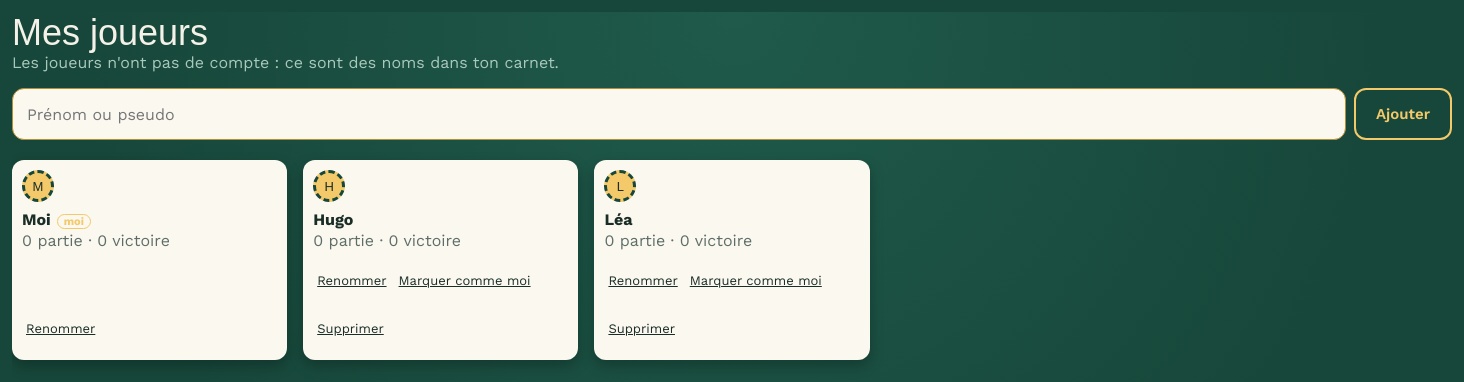
Test: Joueurs › affiche un message d'erreur si le renommage échoue
Click the button "Renommer" below "Hugo" at x=352, y=280, box [313,258,391,302]
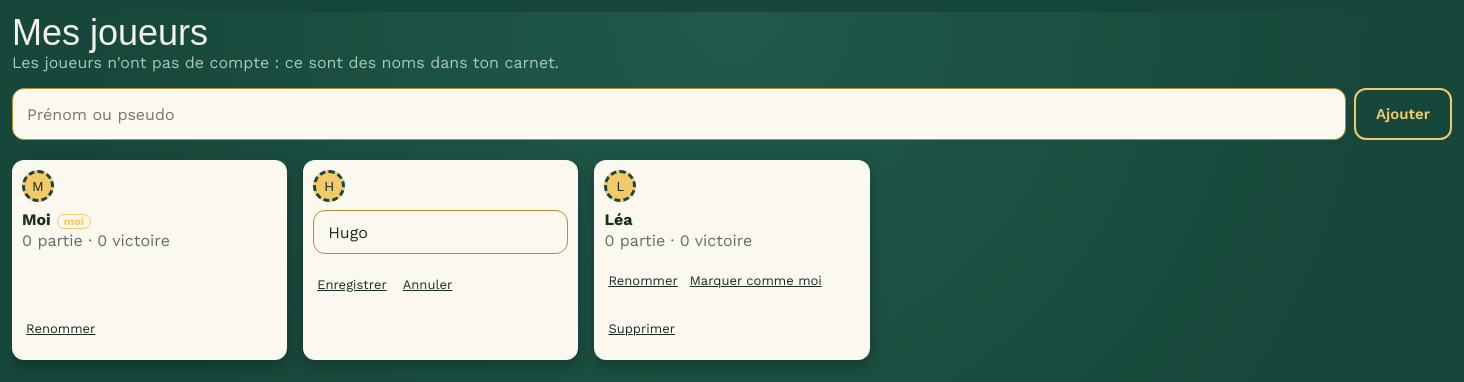
Replace the text in the field named "Nouveau nom du joueur" with "Léa" at x=441, y=232, box [313,210,568,254]
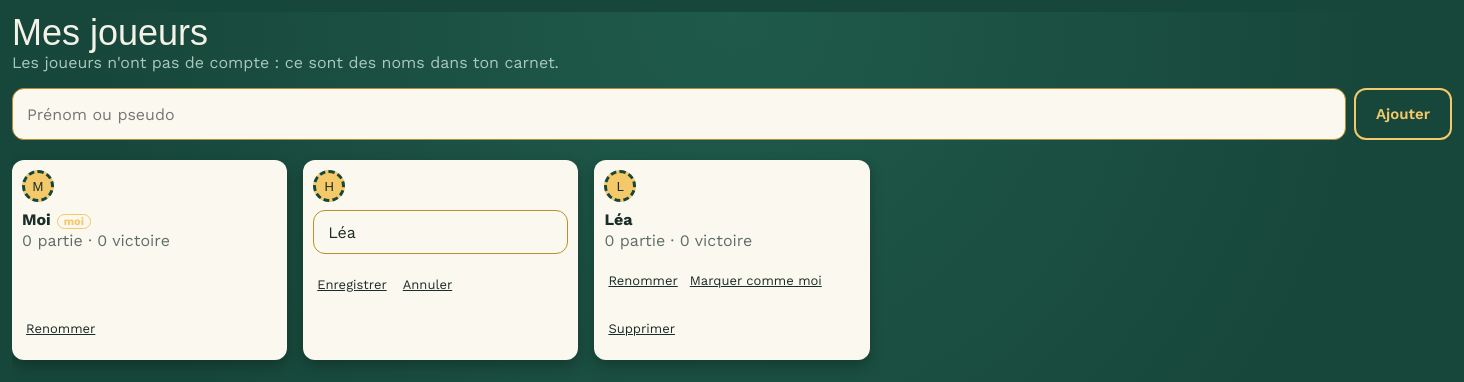
Submit the form with class "rename", box [313,210,568,306]
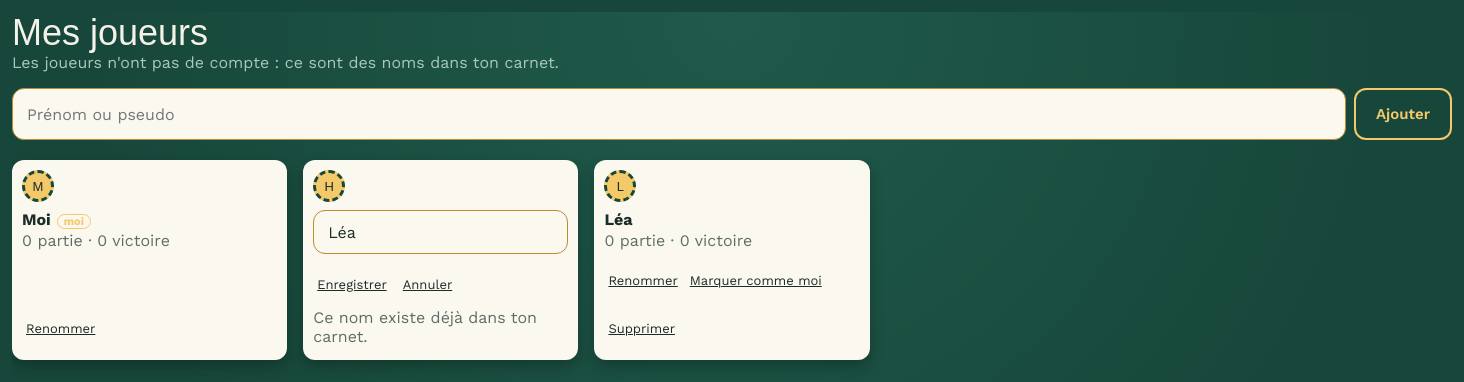
Check: the text with class "error-rename" reads "Ce nom existe déjà dans ton carnet.", box [313,308,537,346]
